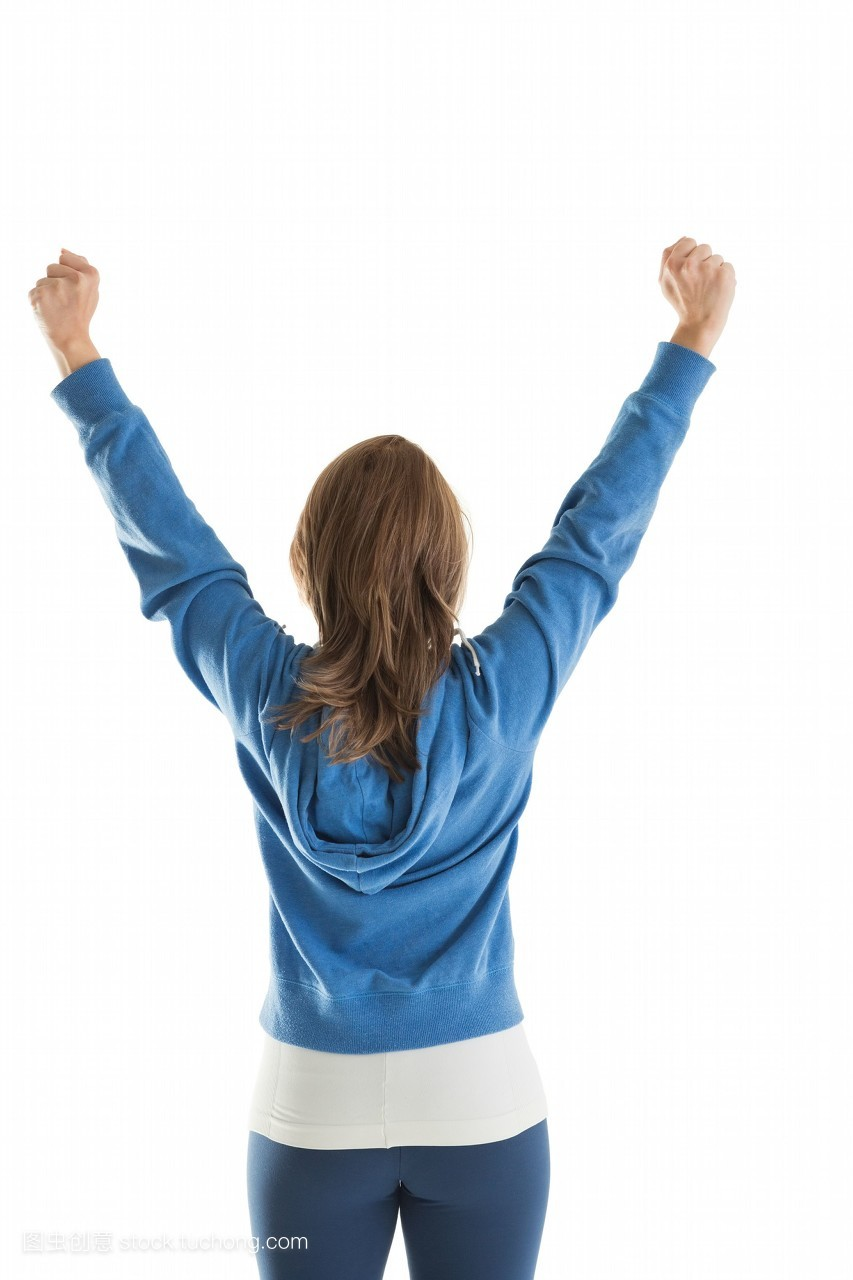handsup: (21, 225, 751, 1263)
